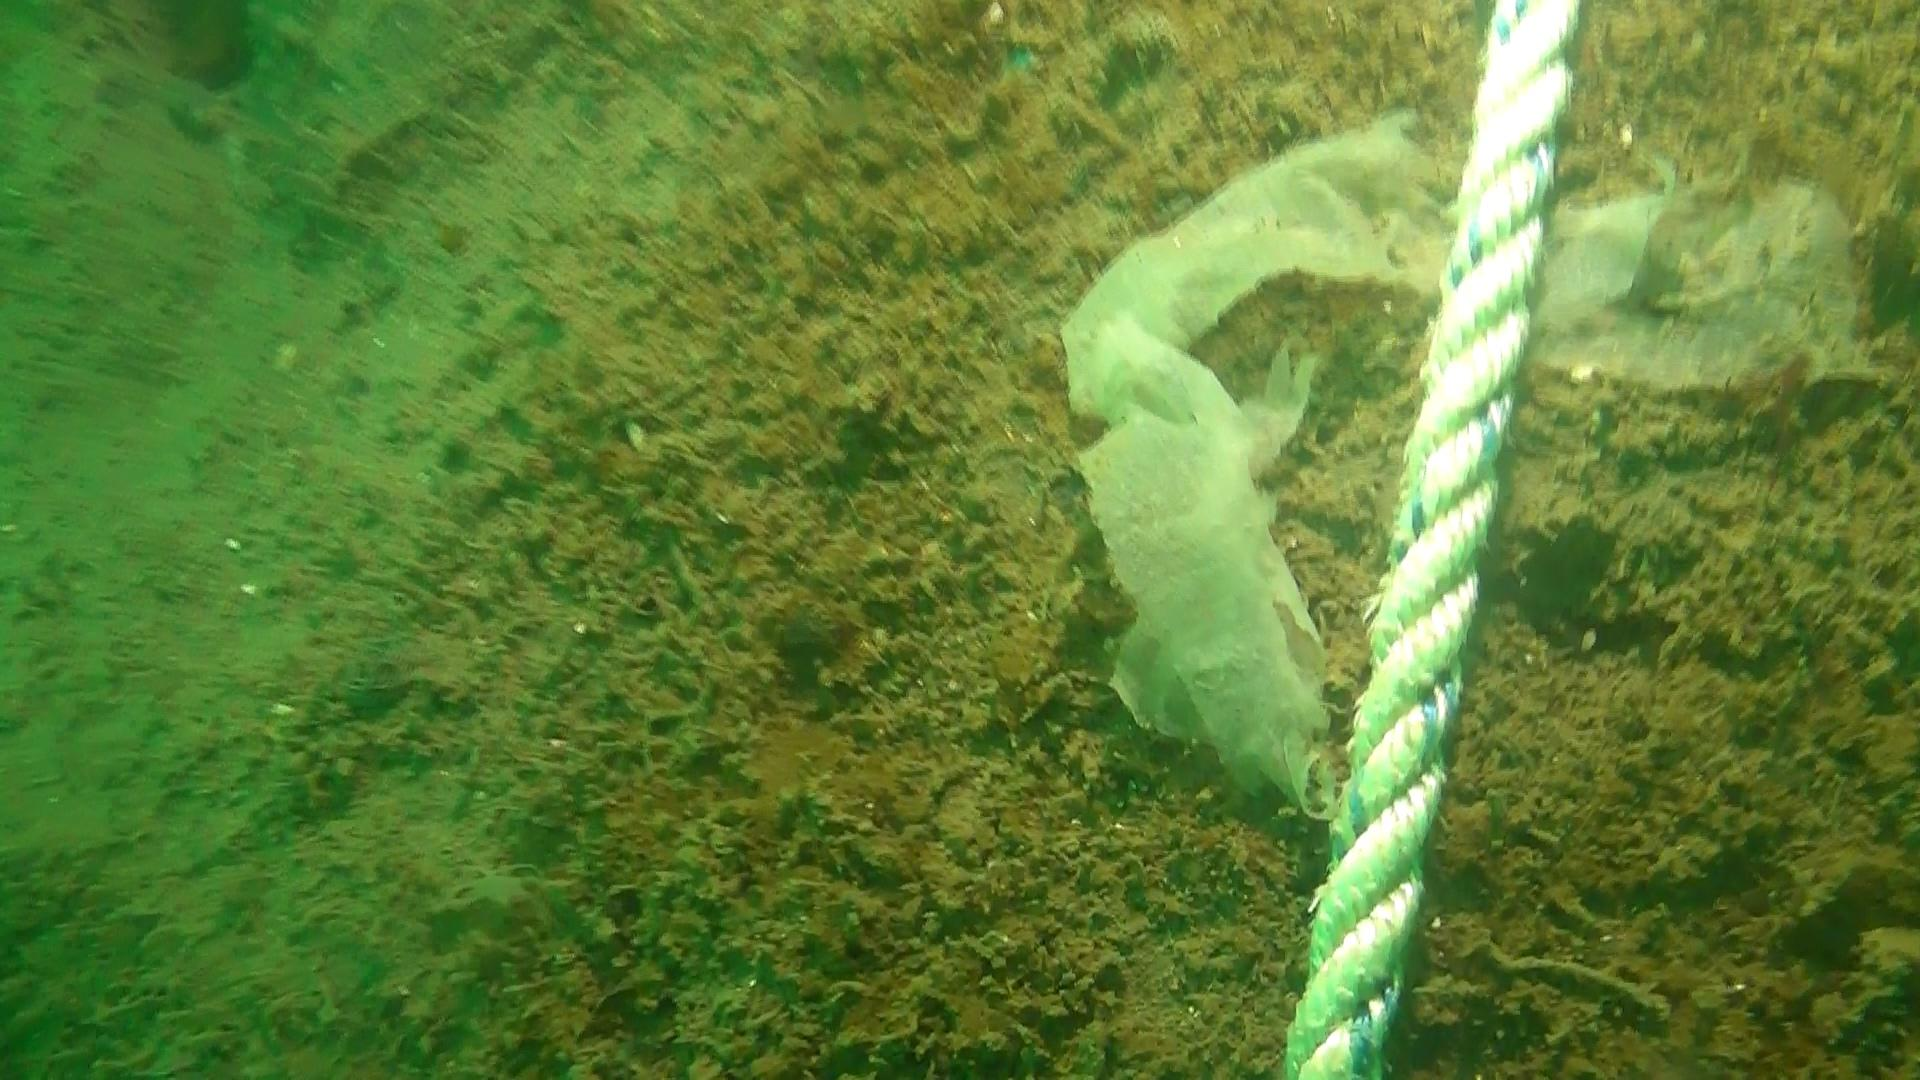rope: (1279, 0, 1581, 1080)
